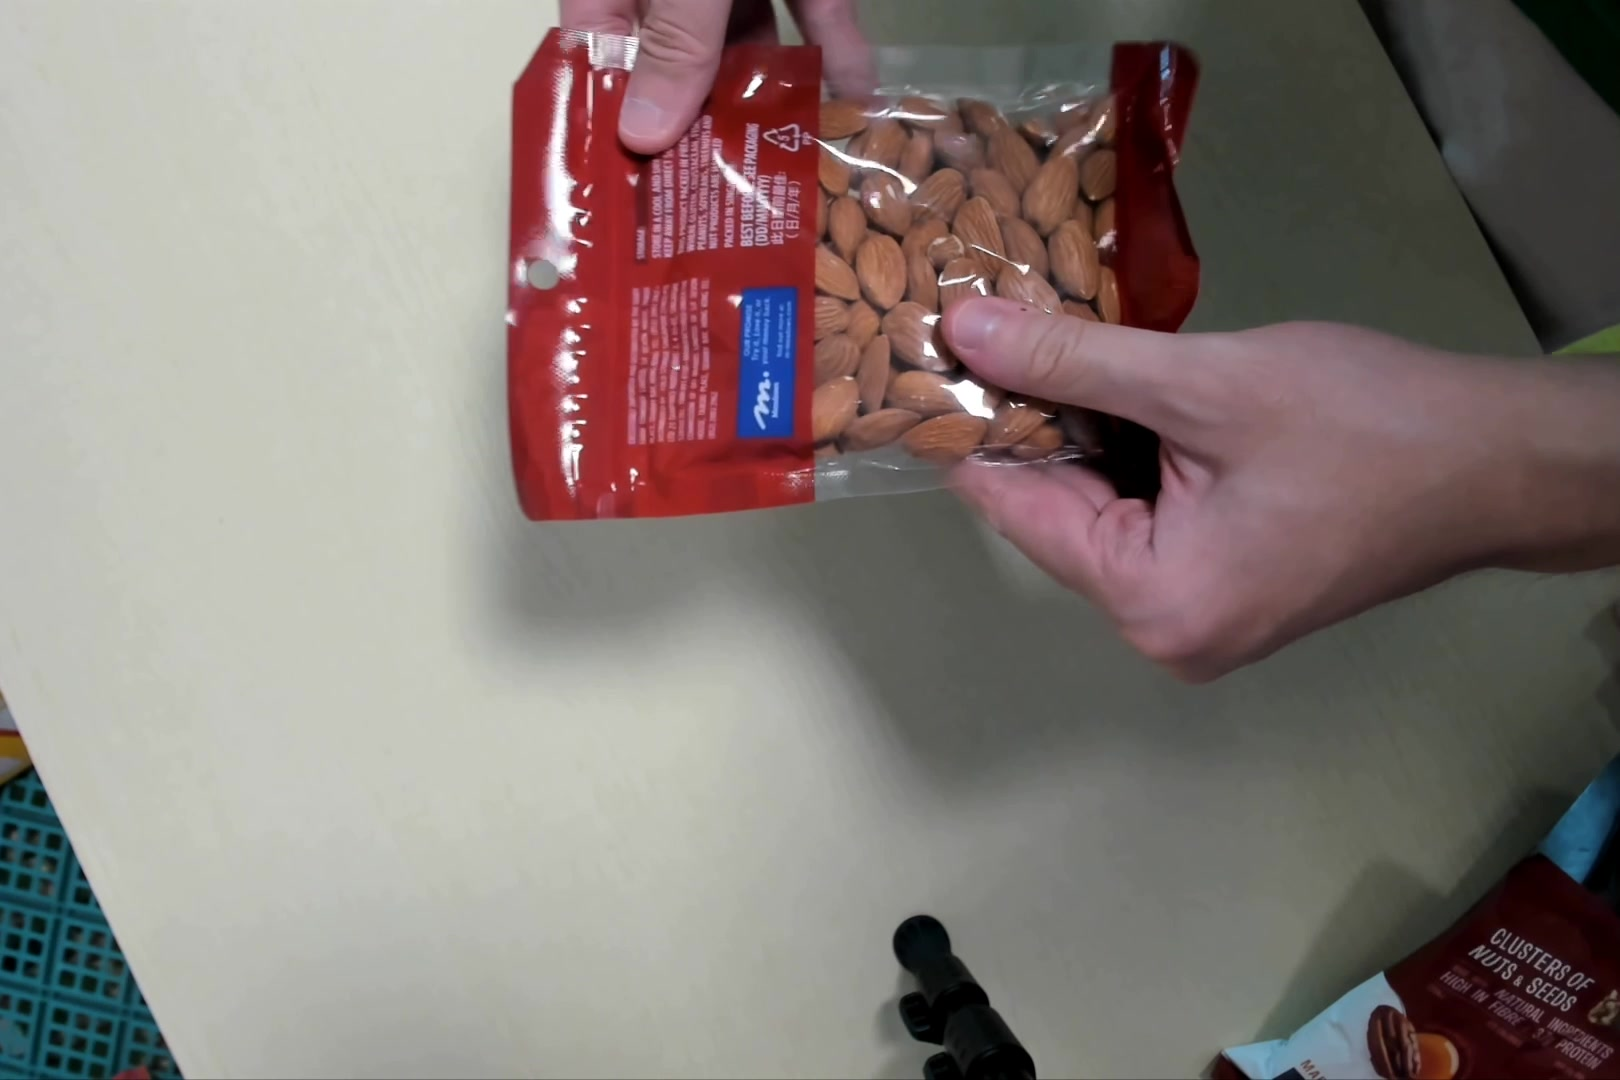Nuts_100-199g_NonHalal_NonHealthy: (500, 29, 1188, 499)
